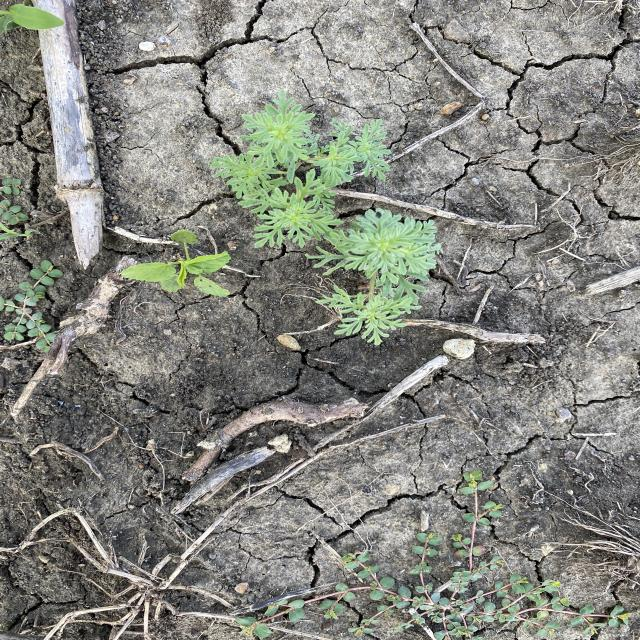PricklySida: (122, 226, 236, 301)
Ragweed: (207, 90, 442, 348)
SpottedSpurge: (188, 469, 638, 639), (1, 257, 64, 354), (1, 177, 30, 226)
